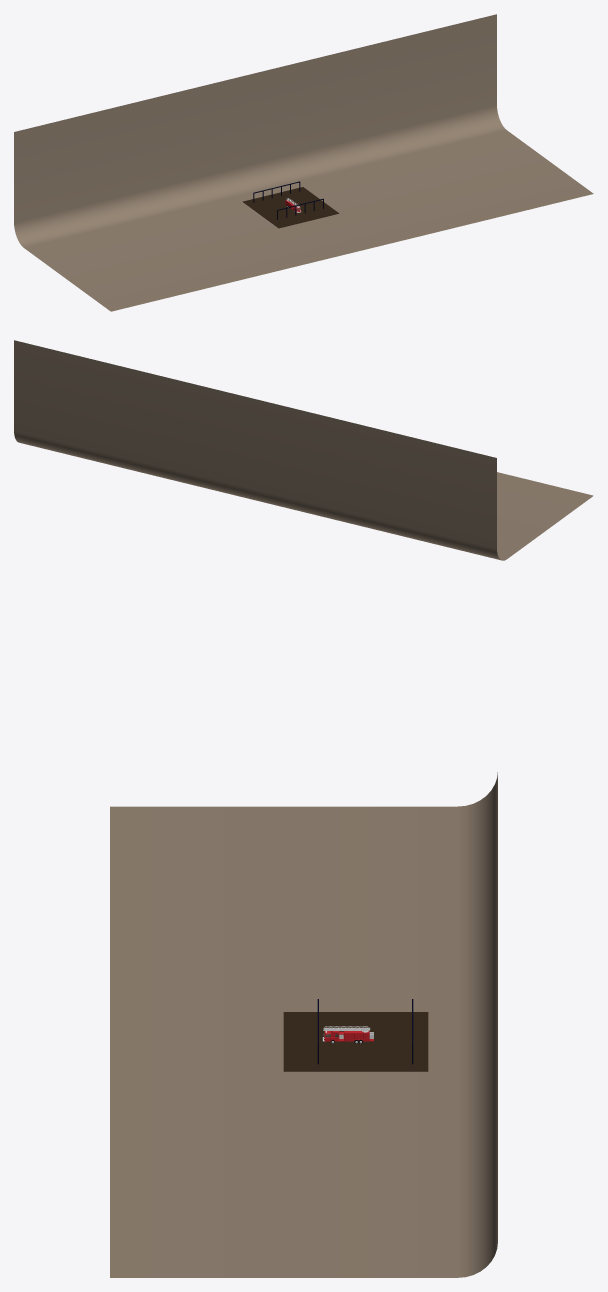
Rendered from cool-scene-01.glb.
3 views of the same model, one above another, from view 1: azimuth 30°, elevation 25°; view 2: azimuth 150°, elevation 25°; view 3: azimuth 270°, elevation 25° (orthographic). The views are drawn at different scales.
Visible parts, largest first — view 1: BG, Floor; view 2: BG; view 3: BG, Floor.
Boxes of the visible parts, left/top/right/bottom form: BG: left=14, top=14, right=593, bottom=311; Floor: left=243, top=187, right=338, bottom=228; BG: left=14, top=340, right=593, bottom=560; BG: left=110, top=772, right=497, bottom=1277; Floor: left=283, top=1012, right=428, bottom=1071.
Bounding box in the file's own units: 153 × 33.07 × 53.34.
